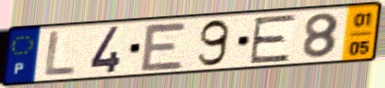4: (88, 24, 123, 76)
8: (300, 11, 341, 60)
9: (196, 18, 232, 68)
E: (247, 12, 299, 66), (138, 21, 190, 73)
L: (42, 29, 78, 78)
